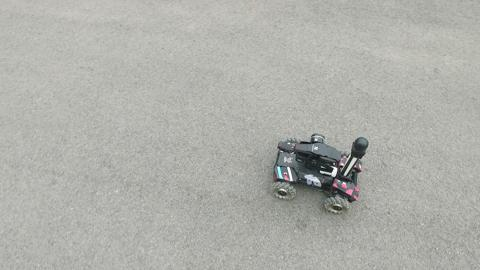chariot: (269, 132, 369, 215)
